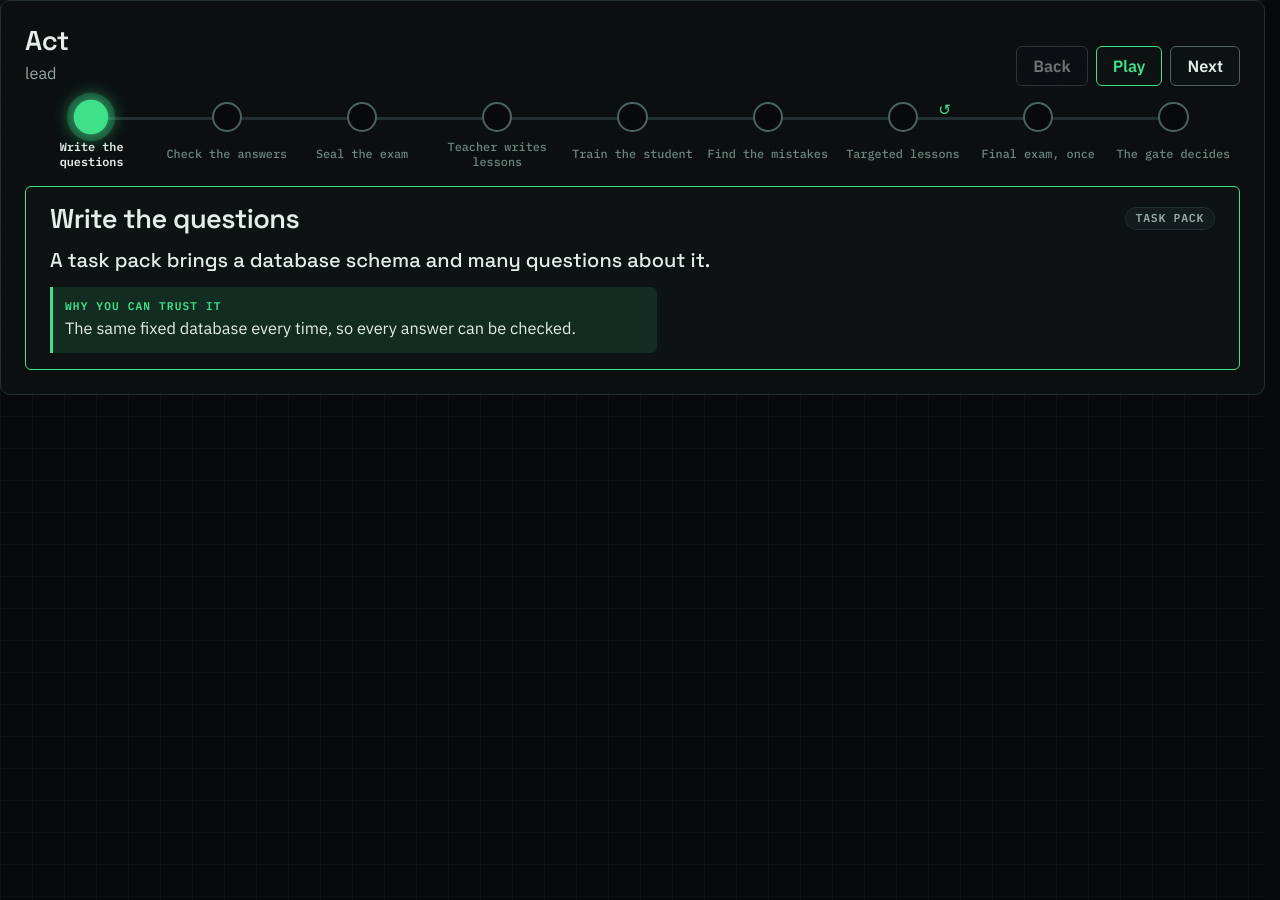
Test: How it works tour › a stop, Next, Back and the arrow keys move through it
Step 1. Click the button "Next" → (1205,66), box [1170, 46, 1240, 86]
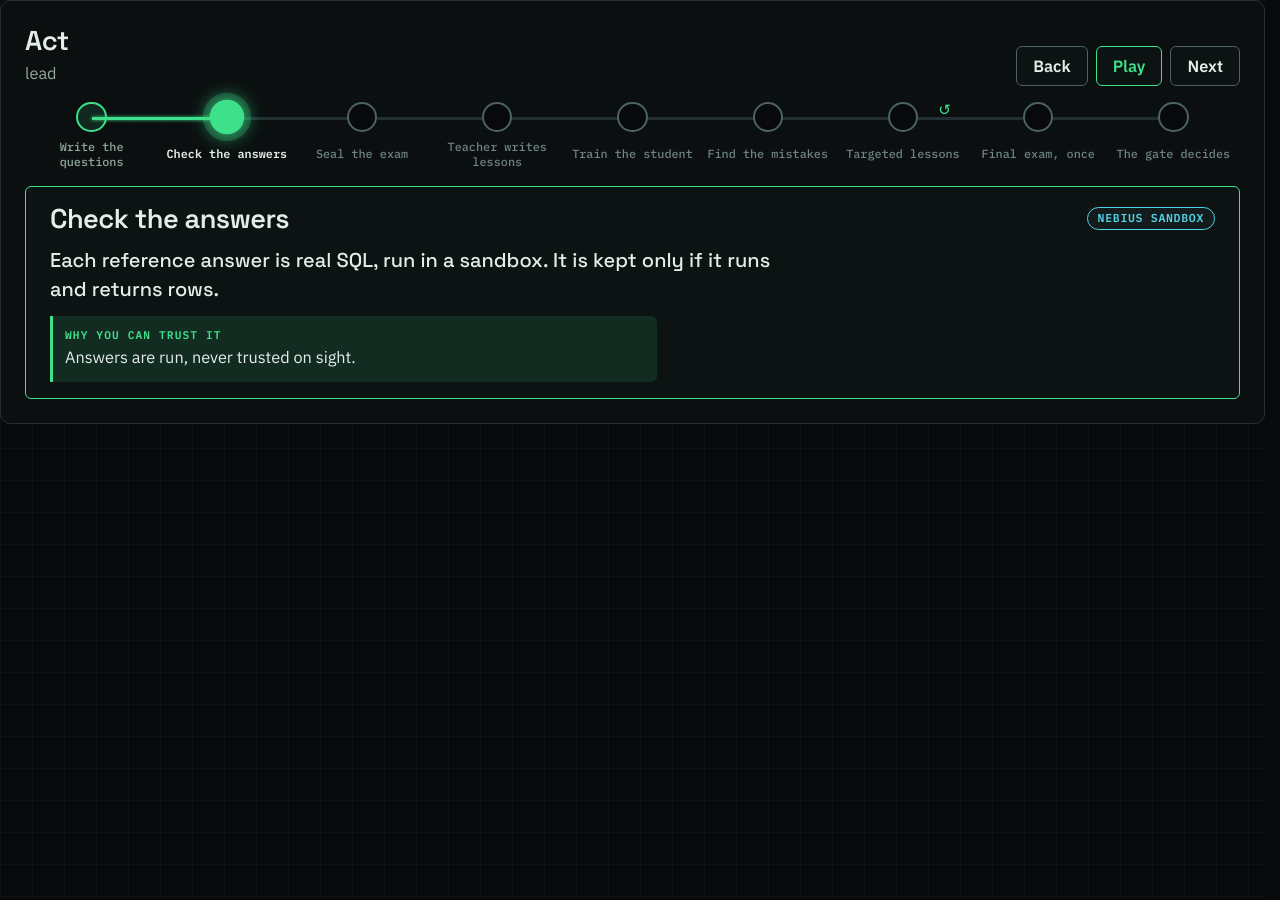
Now the heading "Check the answers" is shown, box [50, 202, 289, 234]
Step 2. Click the button "Train the student" → (632,136), box [566, 102, 699, 170]
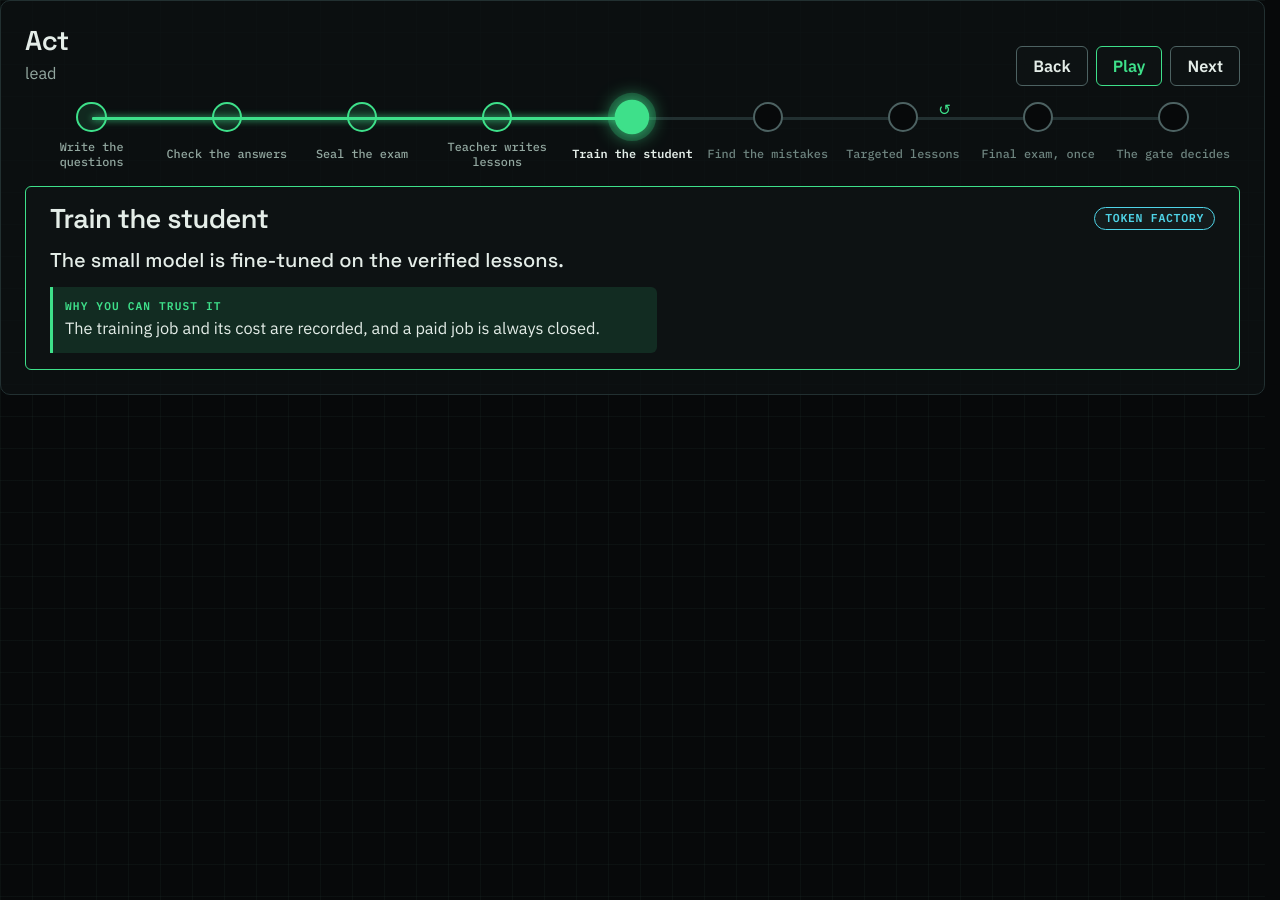
Now the heading "Train the student" is shown, box [50, 202, 268, 234]
Step 3. Press ArrowLeft in the element named "stops", box [25, 102, 1240, 170]
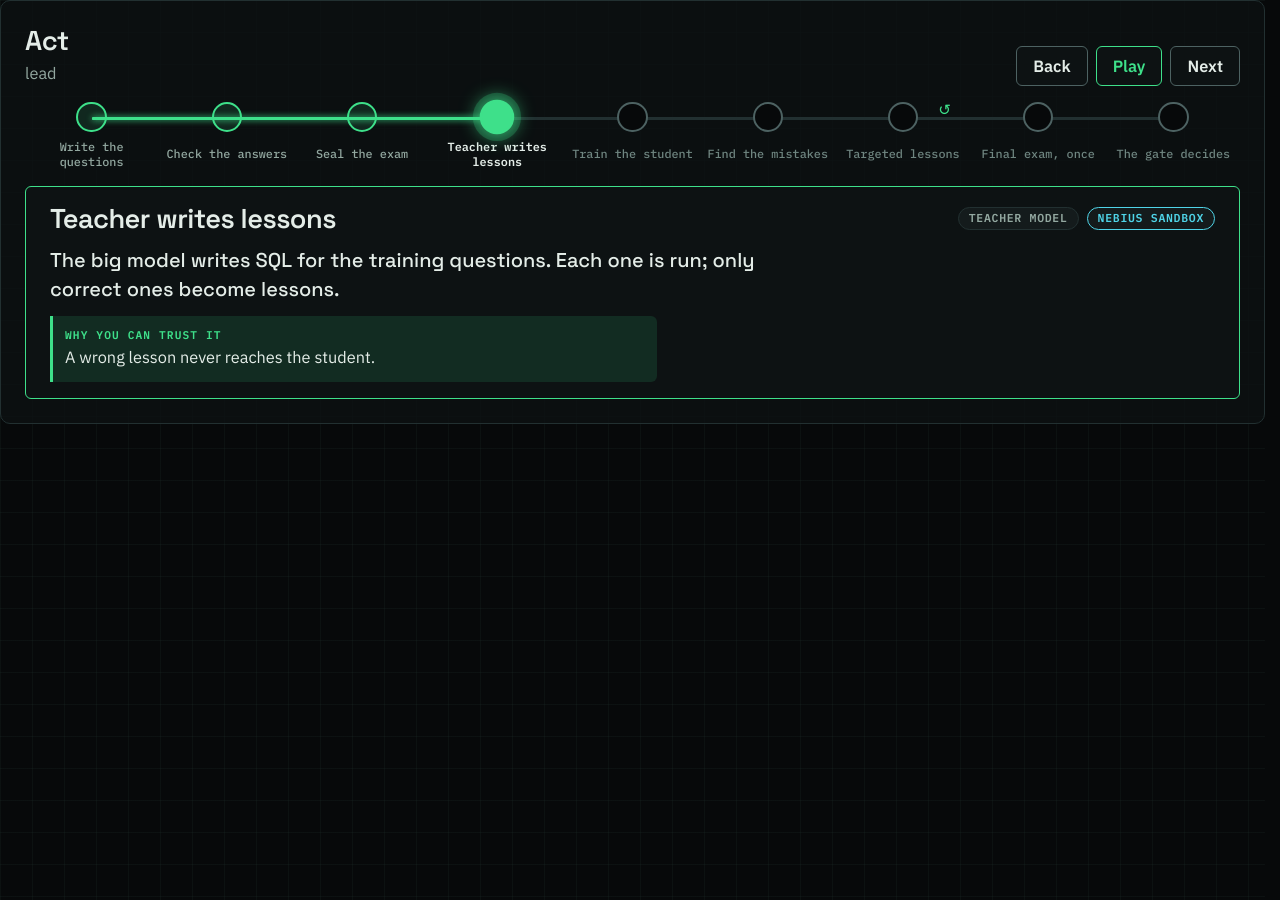
Now the heading "Teacher writes lessons" is shown, box [50, 202, 336, 234]
